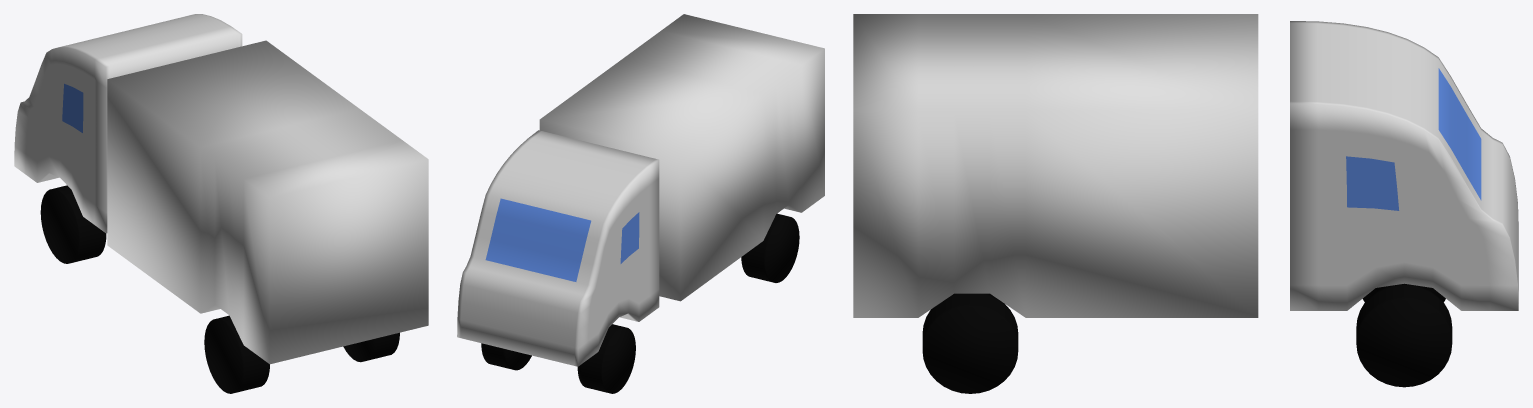
The model's file is exit.fbx.
The picture shows the model from 3 angles, left to right: view 1: azimuth 30°, elevation 25°; view 2: azimuth 150°, elevation 25°; view 3: azimuth 270°, elevation 25°; orthographic projection. The views are drawn at different scales.
Visible parts, largest first — view 1: Cylinder.004; view 2: Cylinder.004; view 3: Cylinder.004.
Part boxes in pixels (x1,y1,x2,y2): Cylinder.004: (14, 14, 428, 393); Cylinder.004: (457, 14, 824, 393); Cylinder.004: (853, 14, 1518, 393).
Bounding box in the file's own units: 200 × 274 × 582.
